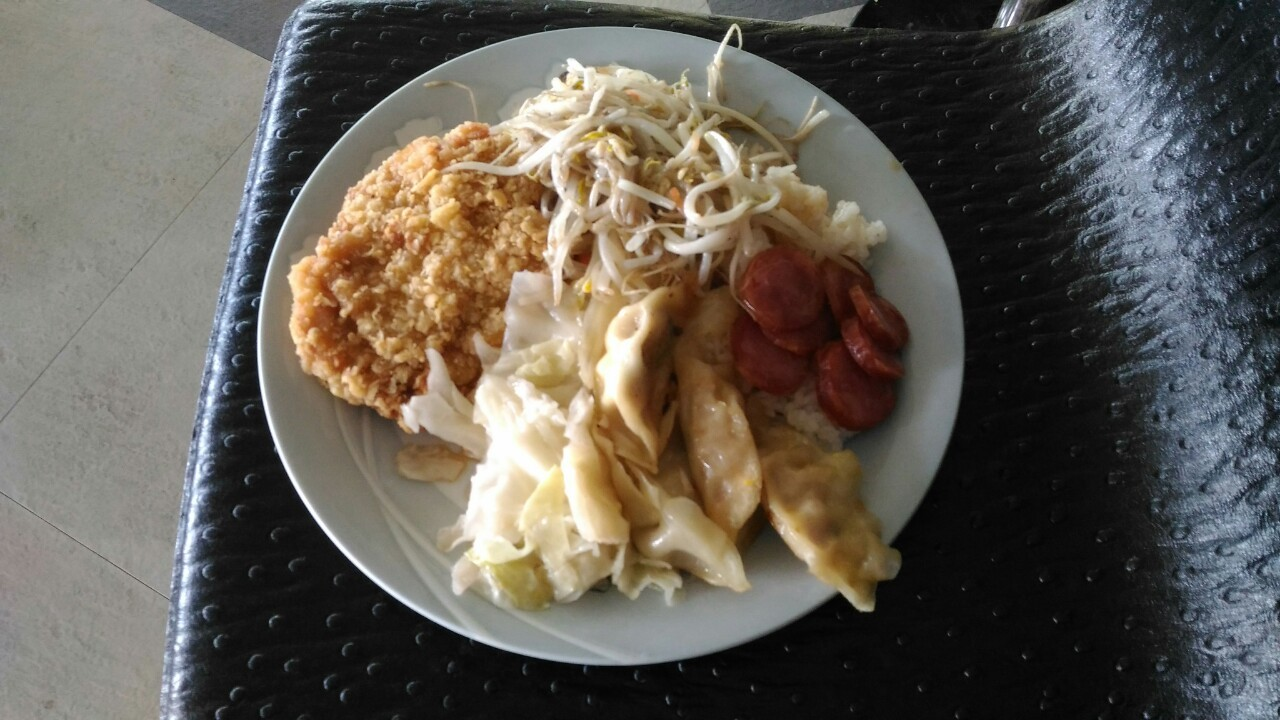chinese_cabbage: (458, 373, 612, 612)
chinese_sausage: (733, 246, 911, 431)
fried_chicken: (294, 121, 552, 422)
fried_dumplings: (602, 291, 780, 585), (750, 414, 906, 614)
mung_bean_sprouts: (544, 78, 762, 264)
